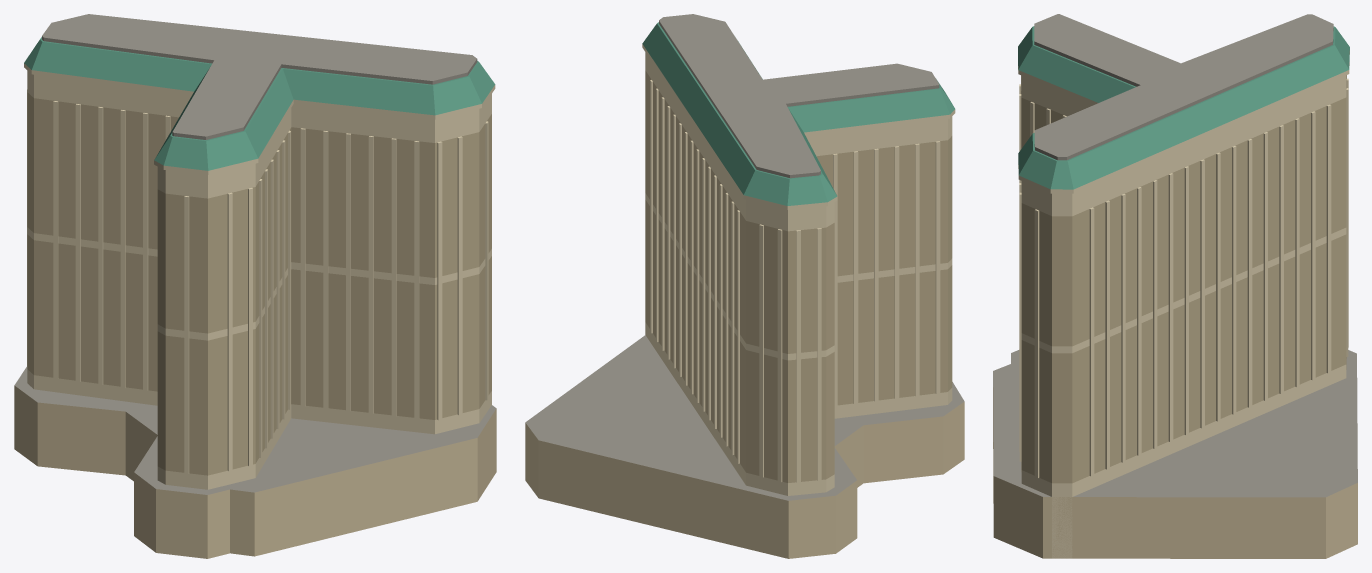
The model's file is marriott_s_grand_chate_w276427203.glb.
3 renders of one model, left to right at view 1: azimuth 30°, elevation 25°; view 2: azimuth 150°, elevation 25°; view 3: azimuth 270°, elevation 25°, orthographic. The views are drawn at different scales.
Visible parts, largest first — view 1: Tower; view 2: Tower; view 3: Tower.
Part boxes in pixels (x1,y1,x2,y2): Tower: (14, 14, 496, 558); Tower: (525, 14, 964, 558); Tower: (993, 14, 1357, 558).
Size of the model in its own units: 101 by 116 by 96.58.
